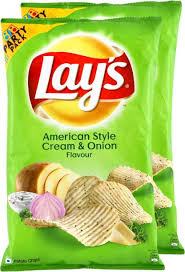lays-large: (1, 15, 162, 255)
